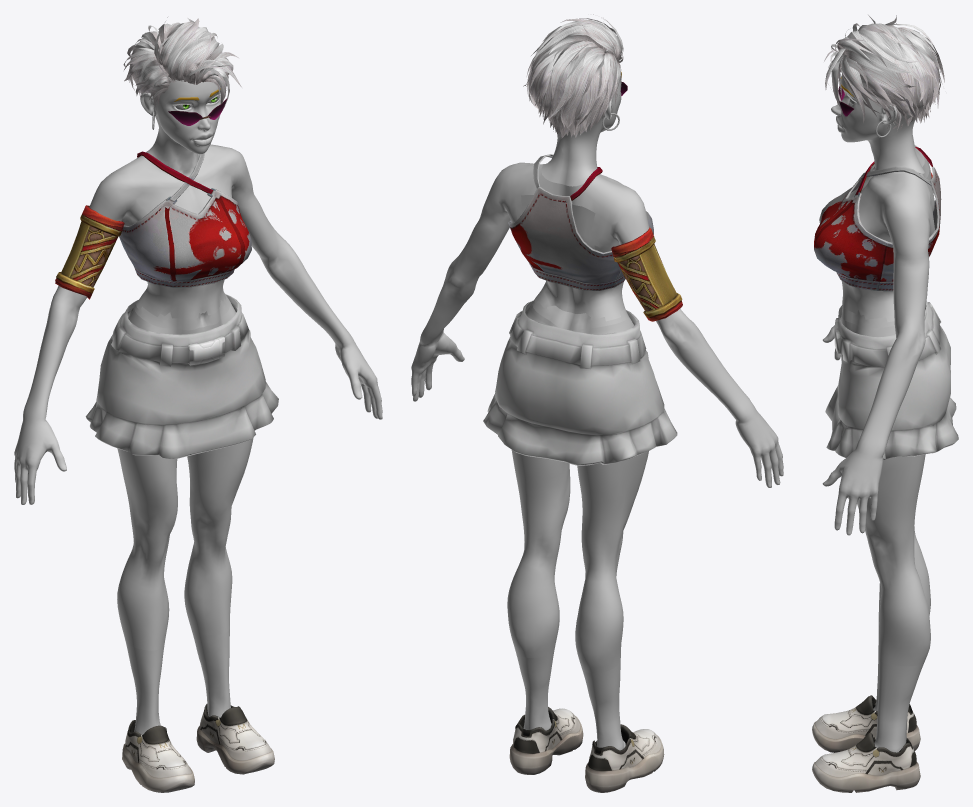
Rendered from Character 6.fbx.
3 renders of one model, left to right at view 1: azimuth 30°, elevation 25°; view 2: azimuth 150°, elevation 25°; view 3: azimuth 270°, elevation 25°, orthographic.
Parts seen in each view (by area): view 1: skirt 2, body.002, legs.001, top 5, shoes 3.001, w hair 15, legs, head, bracelet 5, body.001; view 2: skirt 2, legs.001, body.002, w hair 15, top 5, shoes 3.001, legs, bracelet 5, body.001, head; view 3: body.002, skirt 2, legs.001, w hair 15, shoes 3.001, top 5, head, legs, body.001.
Boxes of the visible parts, x1,y1,x2,y2 form: skirt 2: (85, 294, 278, 458); body.002: (14, 144, 382, 504); legs.001: (117, 437, 253, 650); top 5: (119, 151, 251, 287); shoes 3.001: (122, 704, 274, 792); w hair 15: (123, 17, 241, 110); legs: (126, 300, 235, 734); head: (140, 80, 220, 170); bracelet 5: (55, 205, 124, 299); body.001: (136, 279, 225, 318); skirt 2: (483, 300, 677, 465); legs.001: (507, 450, 648, 673); body.002: (411, 162, 783, 487); w hair 15: (523, 14, 623, 138); top 5: (508, 154, 653, 290); shoes 3.001: (509, 707, 664, 792); legs: (515, 303, 634, 750); bracelet 5: (611, 227, 682, 321); body.001: (517, 195, 624, 321); head: (541, 71, 621, 186); body.002: (822, 145, 933, 535); skirt 2: (825, 301, 958, 460); legs.001: (857, 454, 930, 666); w hair 15: (824, 15, 944, 131); shoes 3.001: (812, 695, 920, 792); top 5: (814, 146, 941, 291); head: (831, 74, 924, 174); legs: (841, 308, 925, 752); body.001: (841, 170, 934, 322).
Bounding box in the file's own units: 96.47 × 192 × 34.4.
